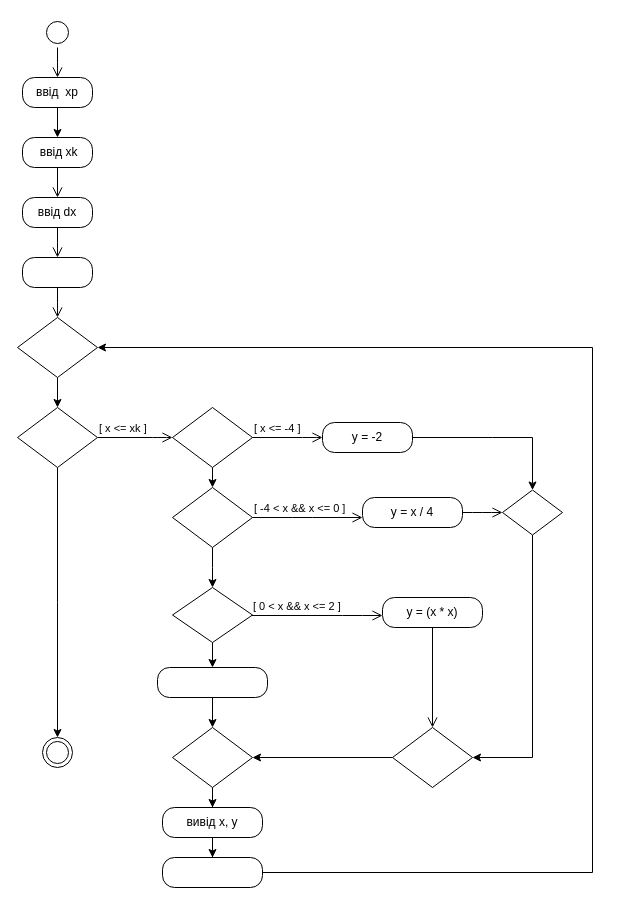
The diagram is 618 pixels wide and 905 high, and some of its shapes have lost their labels. Each missing label, with the centre of its shape:
"x += dx" goes at (x=212, y=872).
"x = xp" goes at (x=57, y=272).
"y = (10 - x) / 2" goes at (x=212, y=682).
